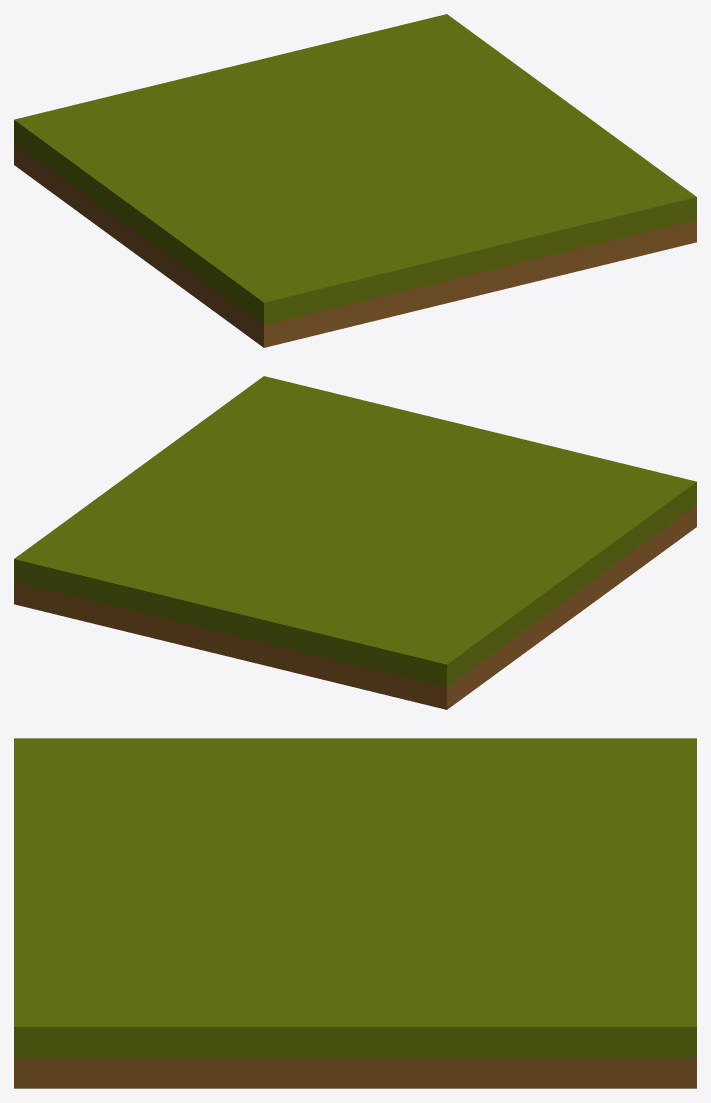
The model's file is ForestEmpty.fbx.
3 renders of one model, top to bottom at view 1: azimuth 30°, elevation 25°; view 2: azimuth 150°, elevation 25°; view 3: azimuth 270°, elevation 25°, orthographic. The views are drawn at different scales.
Visible parts, largest first — view 1: ForestEmpty; view 2: ForestEmpty; view 3: ForestEmpty.
Part boxes in pixels (x1,y1,x2,y2): ForestEmpty: (14, 14, 696, 347); ForestEmpty: (14, 376, 696, 709); ForestEmpty: (14, 738, 696, 1088).
Bounding box in the file's own units: 100 × 10 × 100.
